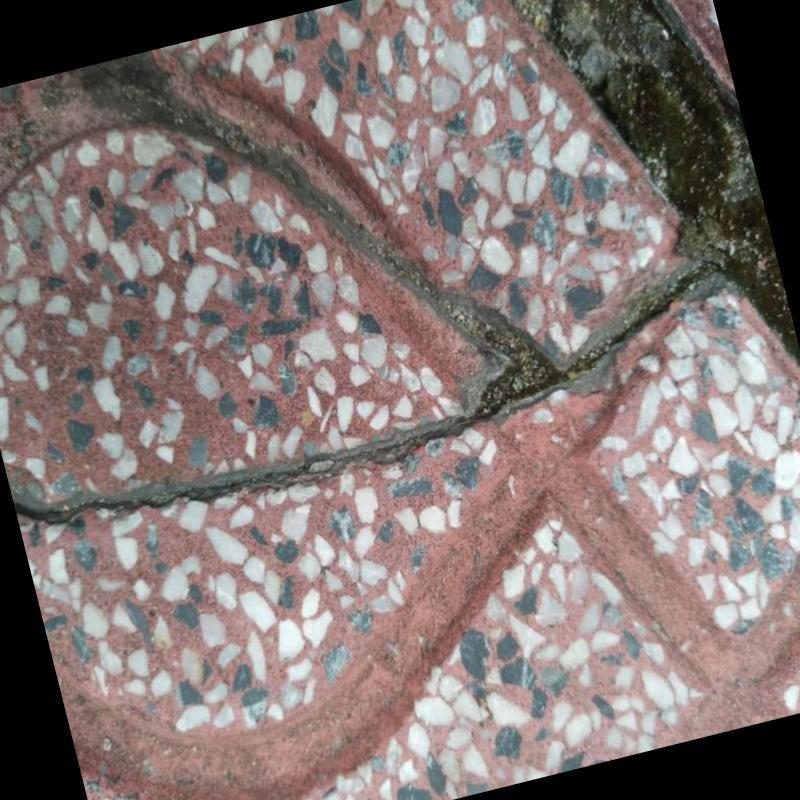pothole: (12, 262, 719, 523)
